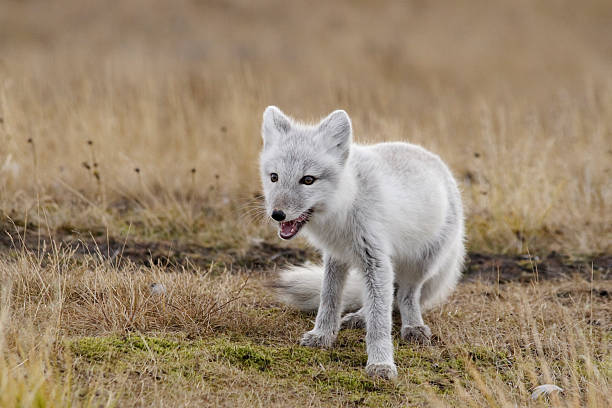arcticfox: (257, 135, 348, 247)
